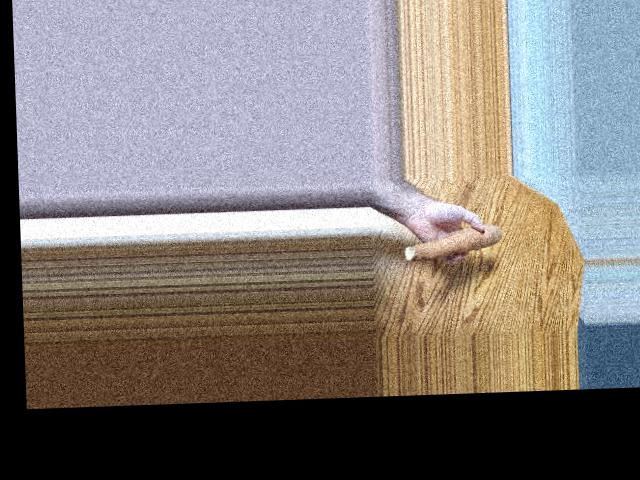sweet_potato: (399, 230, 507, 259)
